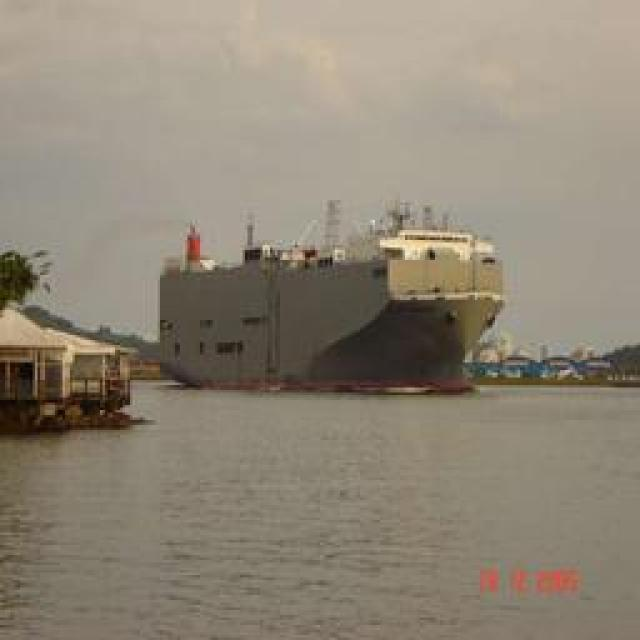CIV_Ship: (206, 226, 499, 394)
